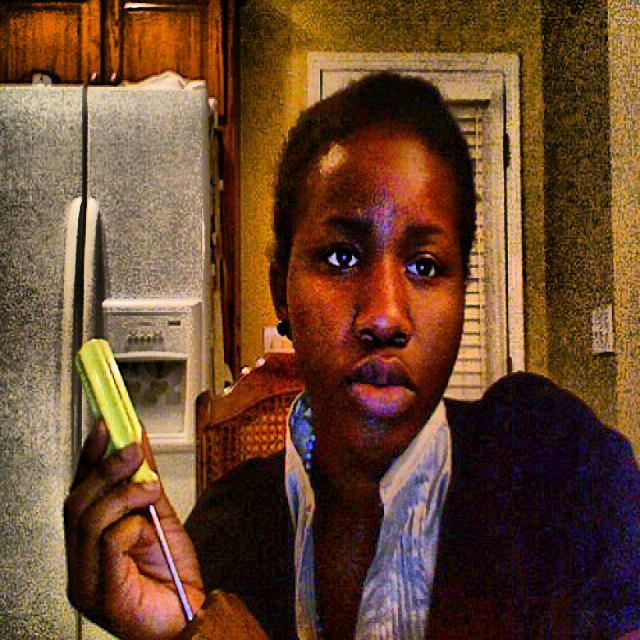screwdriver: (74, 337, 196, 623)
